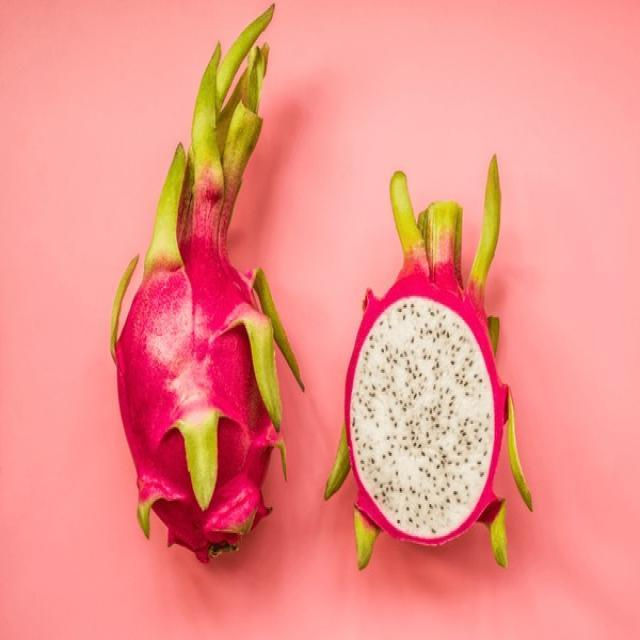dragon-fruit: (114, 235, 277, 553), (342, 262, 507, 548)
